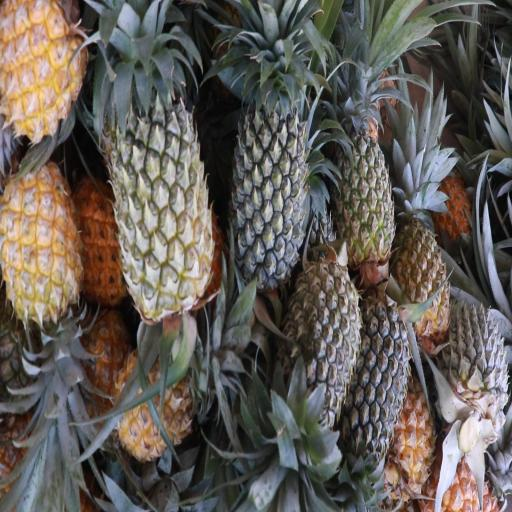------------------------------: (111, 25, 213, 325), (325, 78, 392, 276)
Pineapple - v8 v1: (0, 157, 86, 331), (112, 330, 220, 462), (0, 0, 89, 151), (390, 148, 448, 343)
